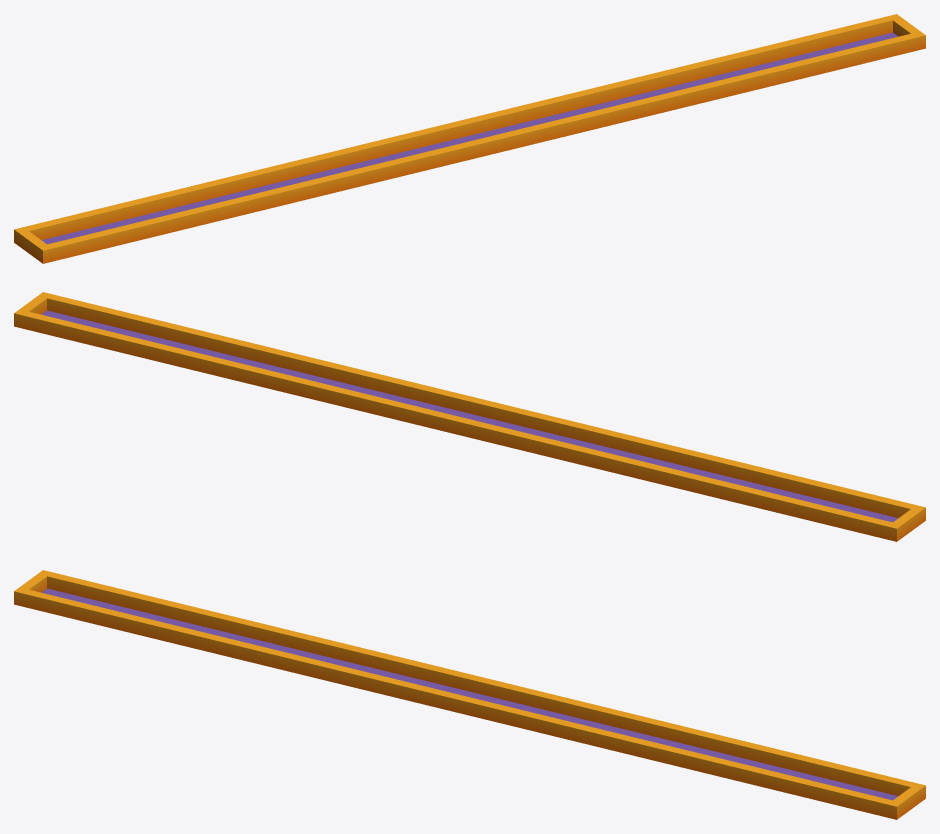
File: Gound_Socket_03.fbx
The picture shows the model from 3 angles, top to bottom: view 1: azimuth 30°, elevation 25°; view 2: azimuth 150°, elevation 25°; view 3: azimuth 330°, elevation 25°; orthographic projection.
Parts seen in each view (by area): view 1: Obstacle_Gound_Socket_03; view 2: Obstacle_Gound_Socket_03; view 3: Obstacle_Gound_Socket_03.
Boxes of the visible parts, <box> form: Obstacle_Gound_Socket_03: <box>14,14,925,263</box>; Obstacle_Gound_Socket_03: <box>14,292,925,541</box>; Obstacle_Gound_Socket_03: <box>14,570,925,819</box>.
Bounding box in the file's own units: 350 × 5 × 20.
1 material, 1 textured.
